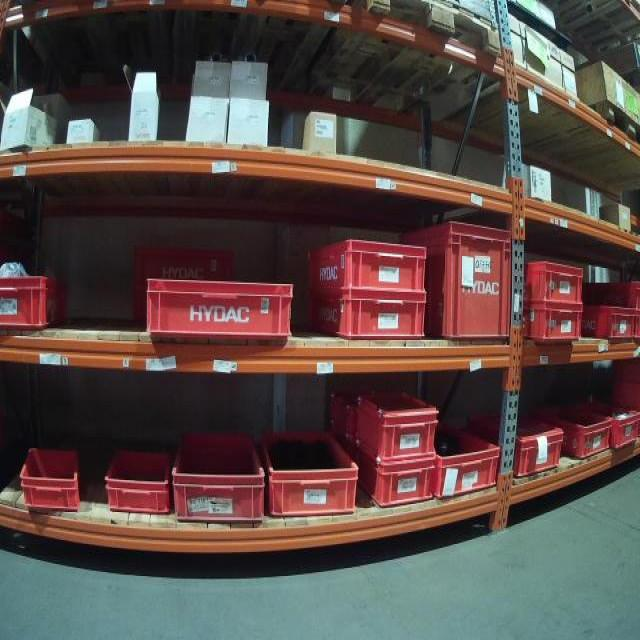pallet: (305, 0, 502, 113)
small_load_carrier: (408, 221, 510, 342), (143, 275, 295, 343), (260, 416, 357, 521), (169, 427, 268, 525), (131, 249, 238, 326), (355, 384, 443, 463), (305, 236, 429, 291), (469, 405, 567, 474), (433, 412, 503, 501), (306, 291, 429, 341), (100, 441, 169, 517), (21, 440, 82, 513), (354, 455, 433, 508), (0, 274, 74, 327), (535, 406, 613, 456), (575, 399, 639, 450), (525, 260, 585, 304), (523, 303, 581, 344), (581, 298, 634, 341), (591, 282, 639, 315), (632, 315, 639, 344)
